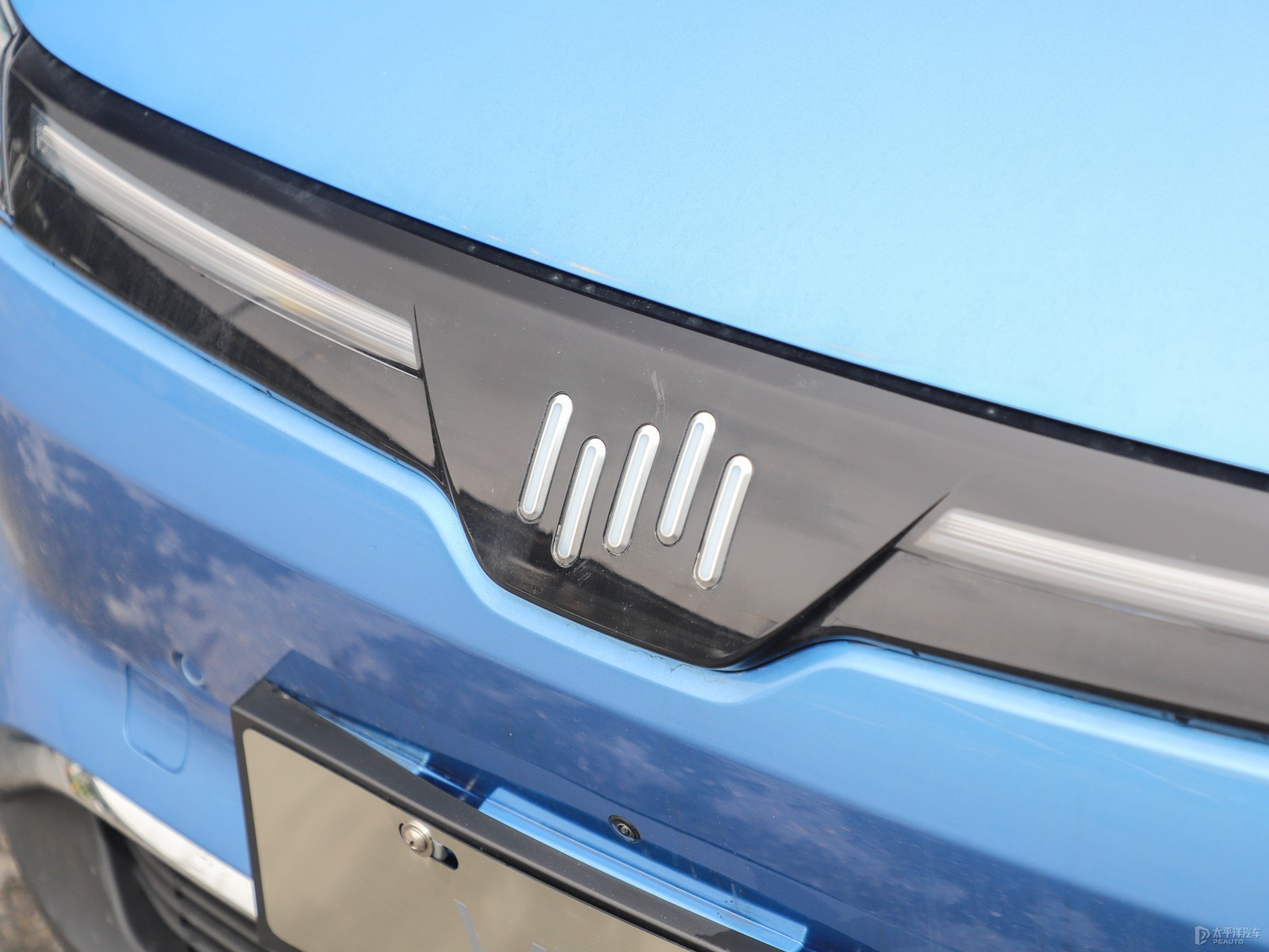WELTMEISTER: (520, 394, 752, 588)
